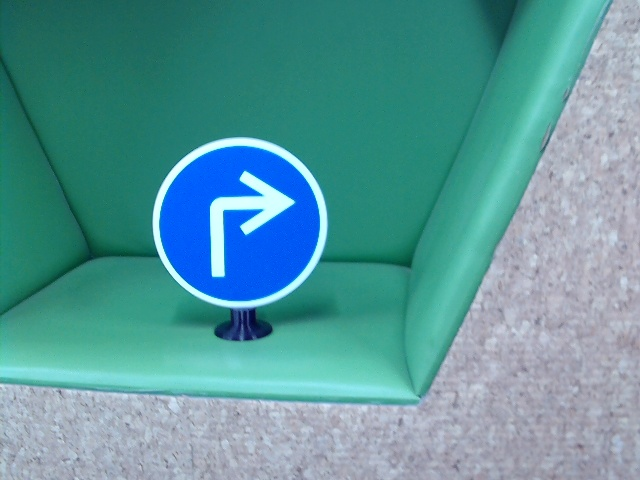turn_right: (197, 168, 293, 278)
